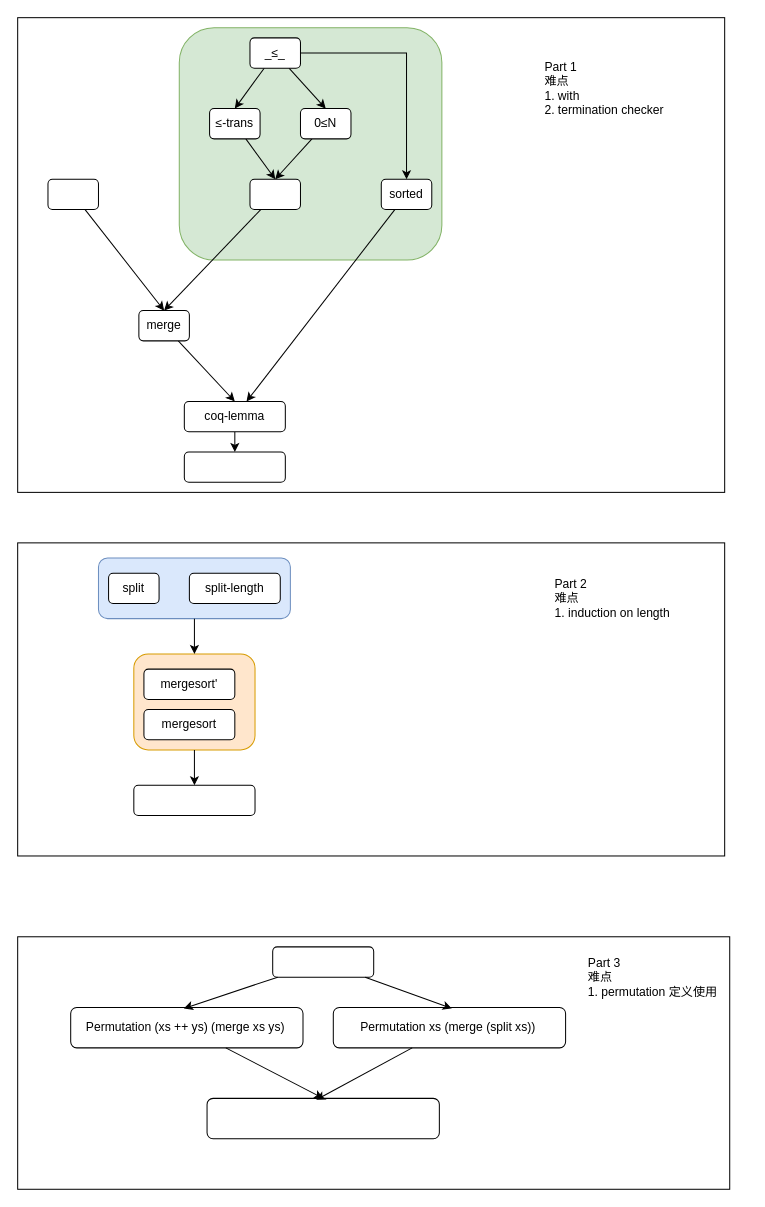
Image size: 765x1207. Some labels were removed from this diagram. Here are the shapes that lost their labels. From the top down, the centre of each, then its label:
At pixel 72 194: "List".
At pixel 274 194: "≤-em".
At pixel 234 466: "sorted-merge".
At pixel 194 800: "mergesort is sorted".
At pixel 323 961: "permutation".
At pixel 322 1118: "Permutation xs (mergesort xs)".
